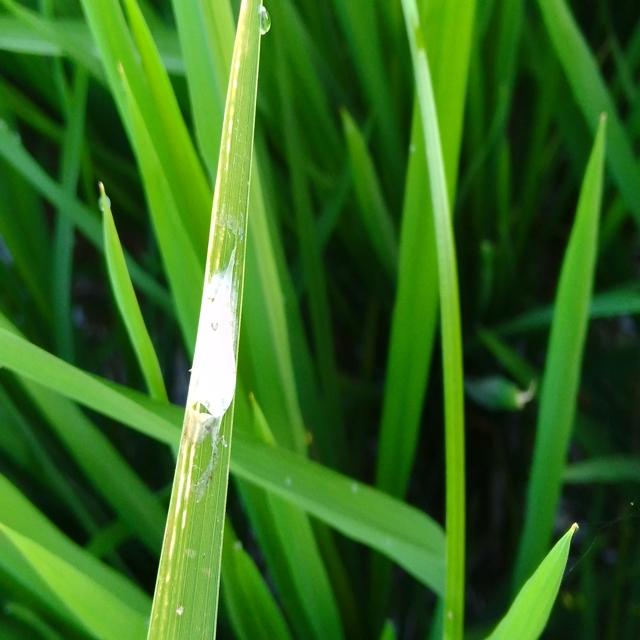brown plant hopper: (174, 246, 268, 459)
